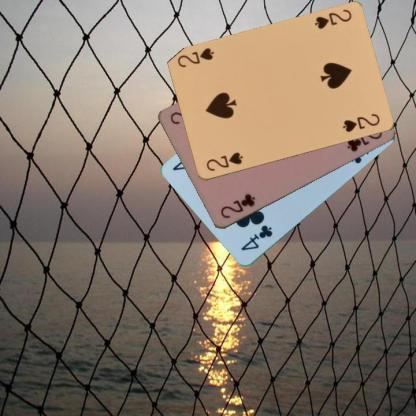2c: (218, 191, 256, 220)
2s: (312, 7, 353, 31), (204, 150, 244, 172)
4c: (238, 223, 274, 252)
